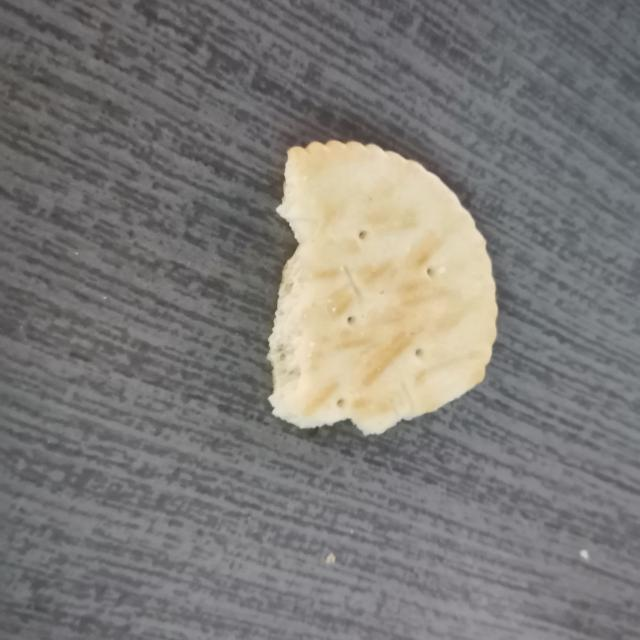Broken: (265, 137, 499, 436)
